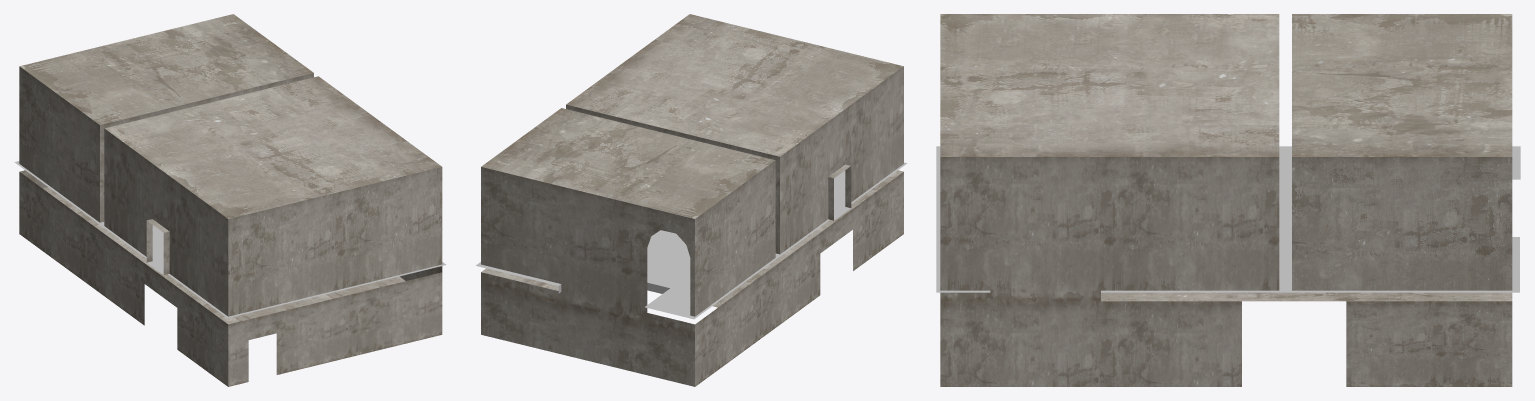
Rendered from jianzhu_chengqiang_shinei02.fbx.
The picture shows the model from 3 angles, left to right: view 1: azimuth 30°, elevation 25°; view 2: azimuth 150°, elevation 25°; view 3: azimuth 270°, elevation 25°; orthographic projection. The views are drawn at different scales.
Parts seen in each view (by area): view 1: jianzhu_chengqiang_shinei02, biban; view 2: jianzhu_chengqiang_shinei02, biban; view 3: jianzhu_chengqiang_shinei02, biban.
Part boxes in pixels (x1,y1,x2,y2): jianzhu_chengqiang_shinei02: [19, 14, 442, 386]; biban: [14, 161, 446, 318]; jianzhu_chengqiang_shinei02: [481, 14, 903, 386]; biban: [476, 162, 906, 319]; jianzhu_chengqiang_shinei02: [940, 14, 1512, 386]; biban: [936, 146, 1520, 292].
Bounding box in the file's own units: 16.01 × 11.53 × 26.55.
